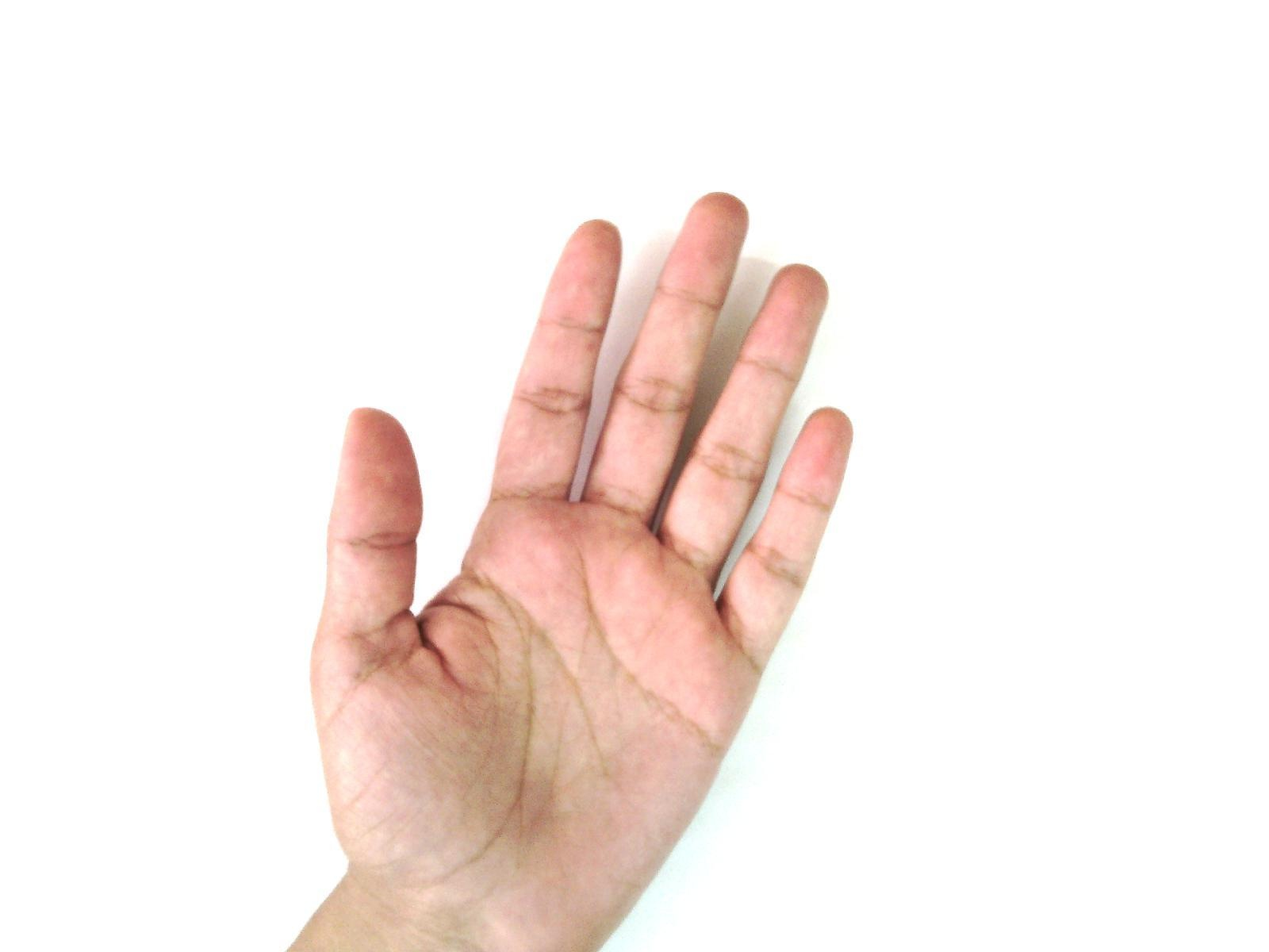open_palm: (290, 190, 857, 950)
